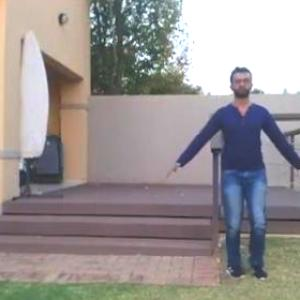land: (160, 65, 299, 289)
